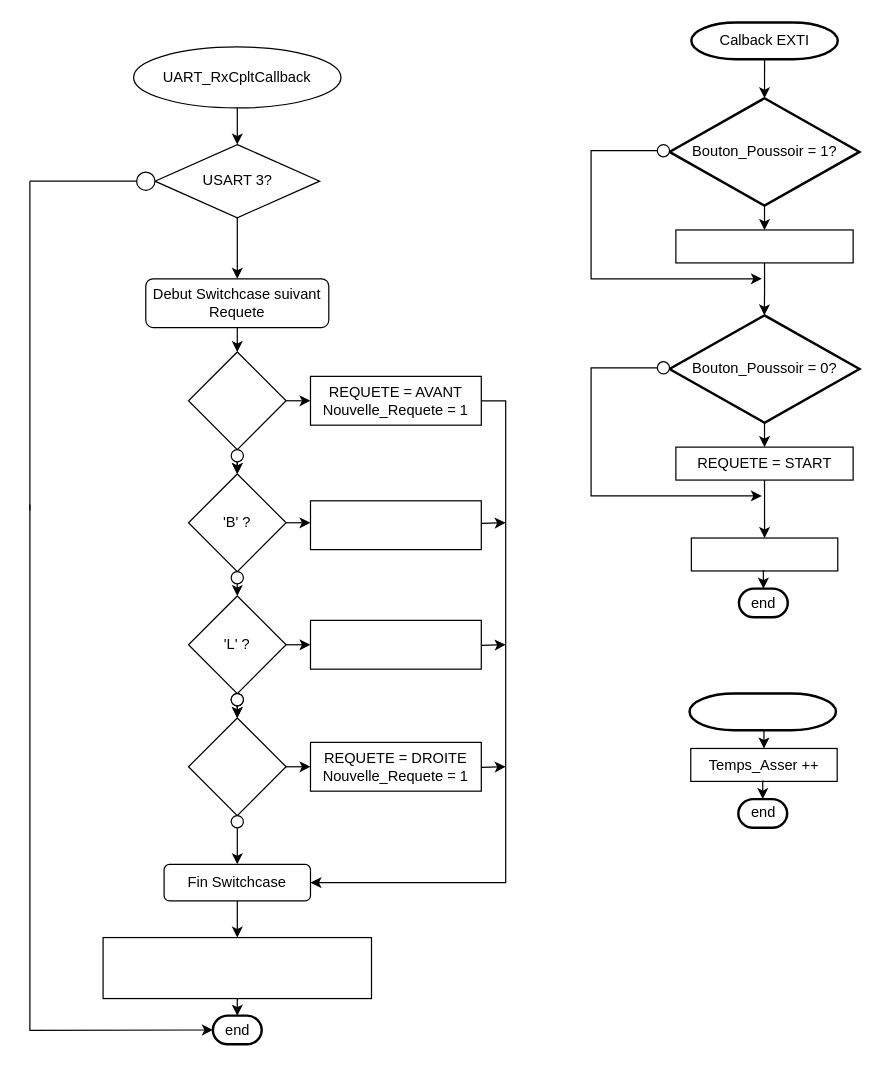
Some shapes in this 882 by 1066 pixel diagram are drawn without their labels. Each missing label, with the centre of its shape:
"'F' ?" belongs at point (236, 400).
"'R' ?" belongs at point (236, 766).
"Calback Tim2" belongs at point (762, 711).
"HAL_UART_Receive_IT(&huart3,...,1);" belongs at point (236, 967).
"REQUETE = ARRIERE Nouvelle_Requete = 1" belongs at point (395, 525).
"REQUETE = GAUCHE Nouvelle_Requete = 1" belongs at point (395, 644).
"REQUETE = STOP" belongs at point (764, 246).
"~Bouton_Poussoir" belongs at point (764, 554).
